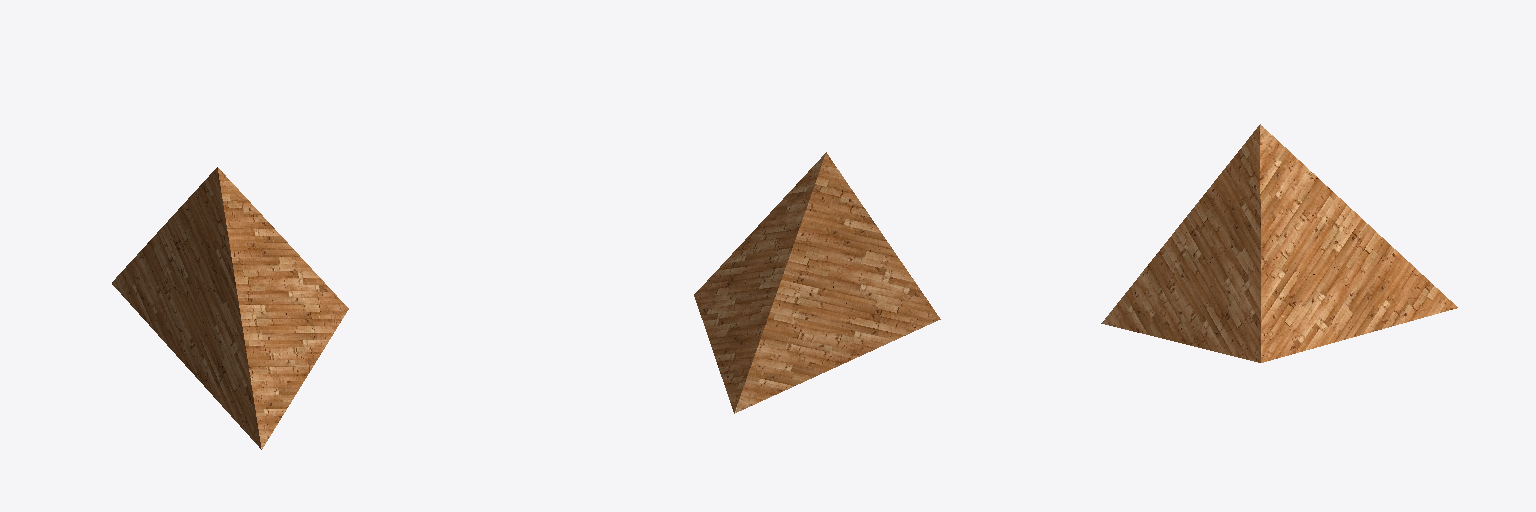
3 views of the same model, side by side, from view 1: azimuth 30°, elevation 25°; view 2: azimuth 150°, elevation 25°; view 3: azimuth 270°, elevation 25° (orthographic).
Parts seen in each view (by area): view 1: Mesh; view 2: Mesh; view 3: Mesh.
Boxes of the visible parts, x1,y1,x2,y2 form: Mesh: [112, 167, 348, 449]; Mesh: [694, 152, 940, 413]; Mesh: [1101, 124, 1457, 362].
Size of the model in its own units: 2.36 by 2.93 by 4.37.
1 materials, 1 textured.